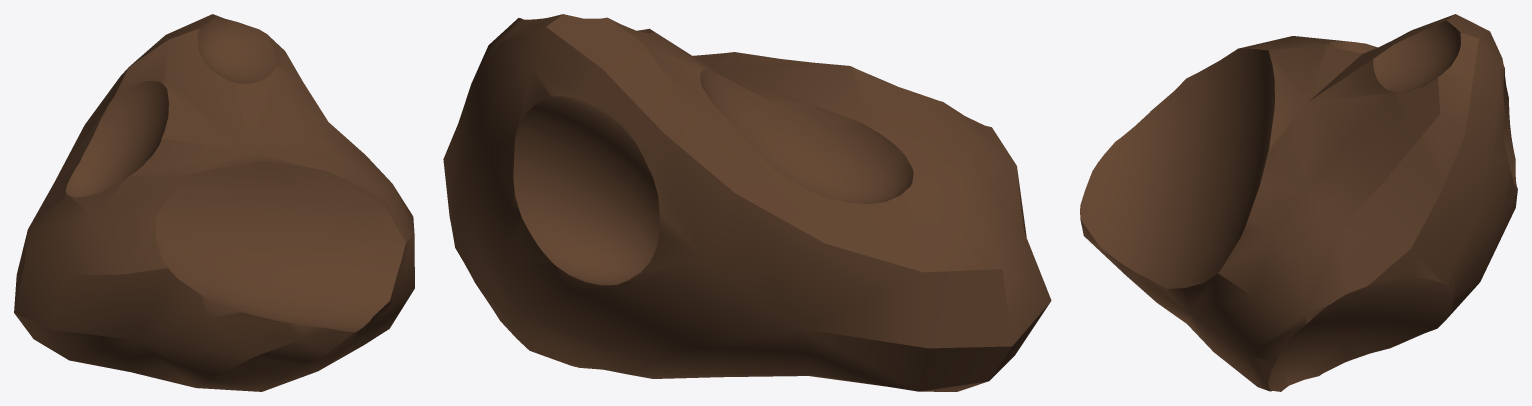
Rendered from Assteroid 2.fbx.
3 views of the same model, side by side, from view 1: azimuth 30°, elevation 25°; view 2: azimuth 150°, elevation 25°; view 3: azimuth 270°, elevation 25° (orthographic). The views are drawn at different scales.
Visible parts, largest first — view 1: rock.005; view 2: rock.005; view 3: rock.005.
Boxes of the visible parts, left/top/right/bottom form: rock.005: left=14, top=14, right=414, bottom=391; rock.005: left=443, top=14, right=1051, bottom=391; rock.005: left=1080, top=14, right=1517, bottom=391.
Bounding box in the file's own units: 116 × 82.99 × 100.
